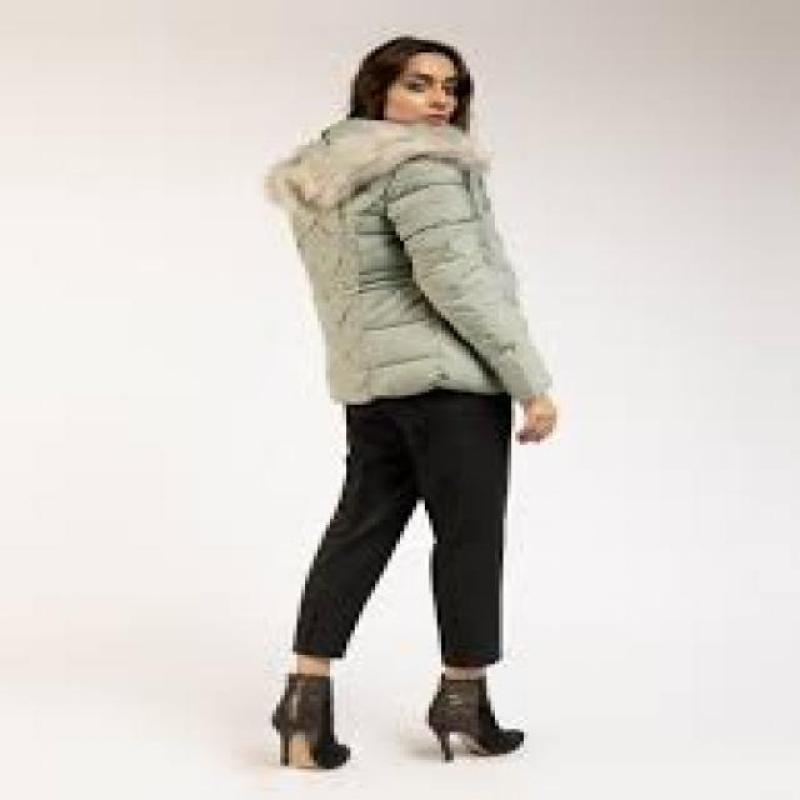coat: (257, 114, 558, 407)
trousers: (288, 383, 515, 667)
